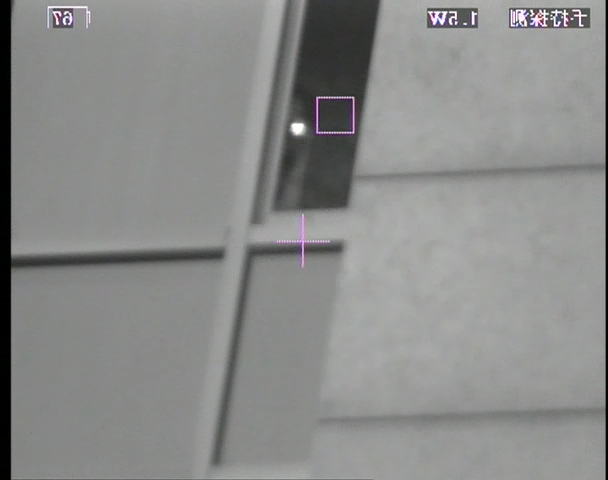my: (288, 120, 307, 136)
